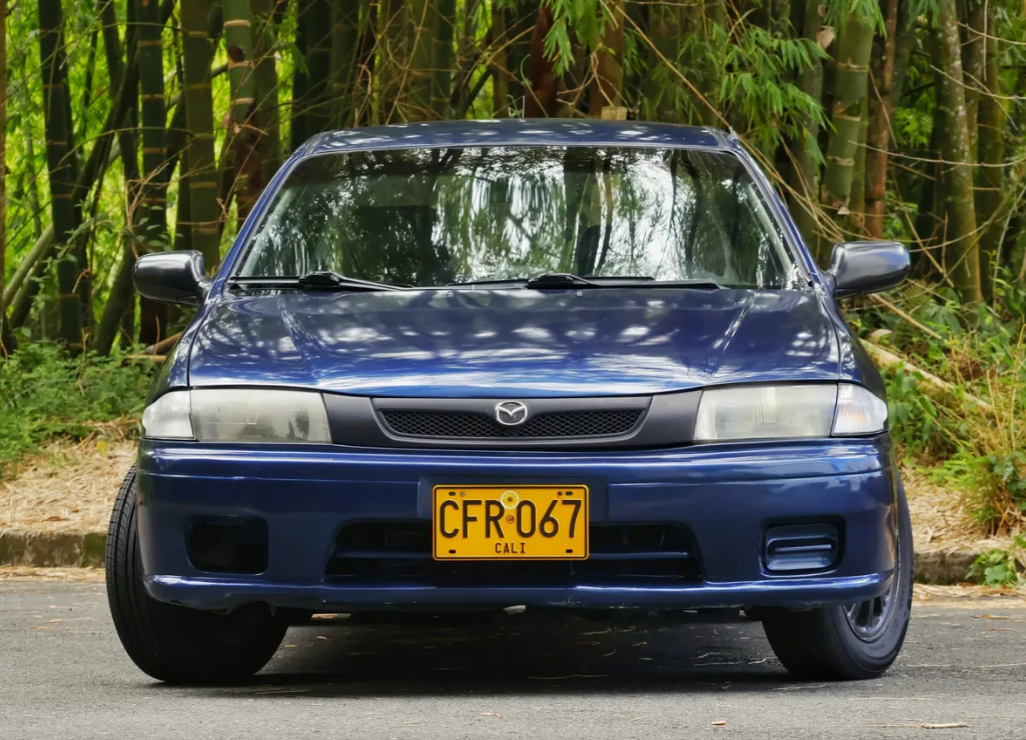placa: (429, 483, 591, 564)
